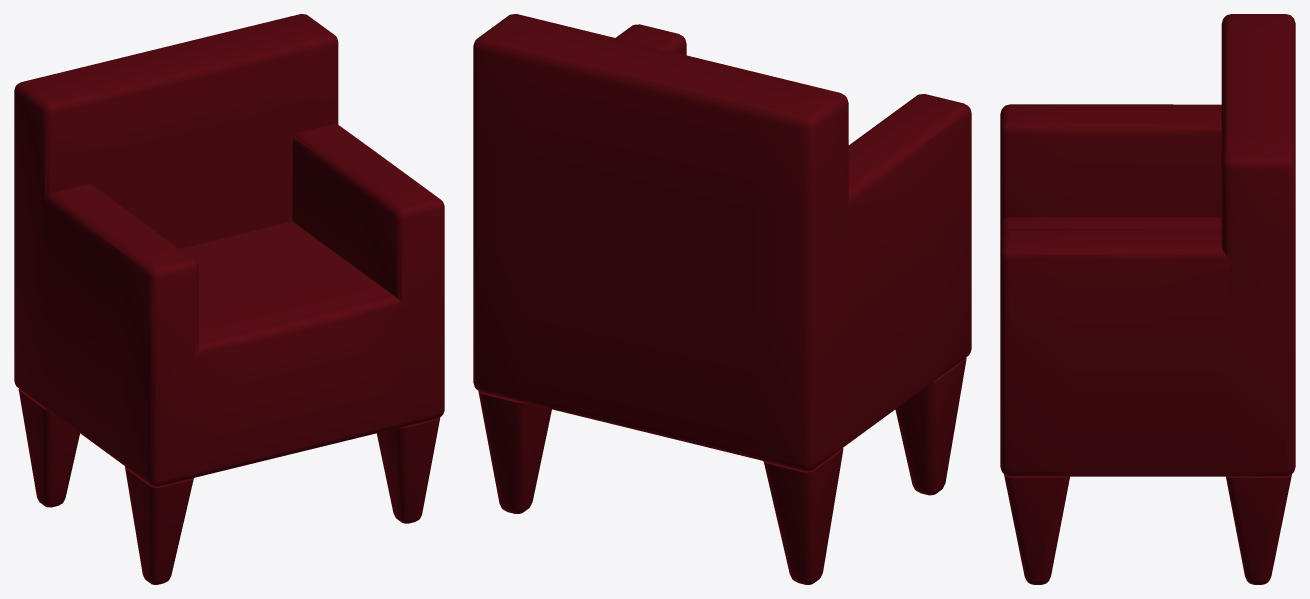
File: Chair.fbx
3 renders of one model, left to right at view 1: azimuth 30°, elevation 25°; view 2: azimuth 150°, elevation 25°; view 3: azimuth 270°, elevation 25°, orthographic. The views are drawn at different scales.
Parts seen in each view (by area): view 1: Chair; view 2: Chair; view 3: Chair.
Boxes of the visible parts, bbox=[...] form: Chair: bbox=[14, 14, 444, 584]; Chair: bbox=[473, 14, 971, 584]; Chair: bbox=[1000, 14, 1295, 584].
Size of the model in its own units: 77.85 by 105 by 64.71.
